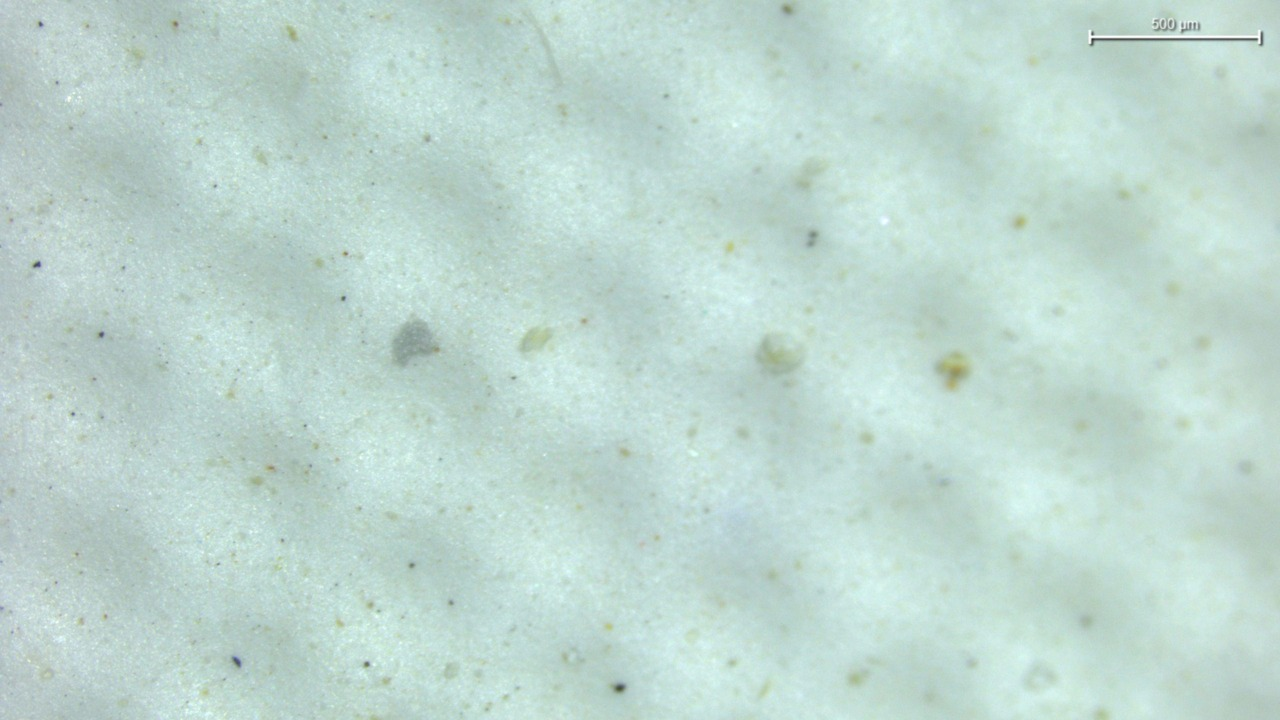microplastic_fragment: (392, 318, 438, 366)
